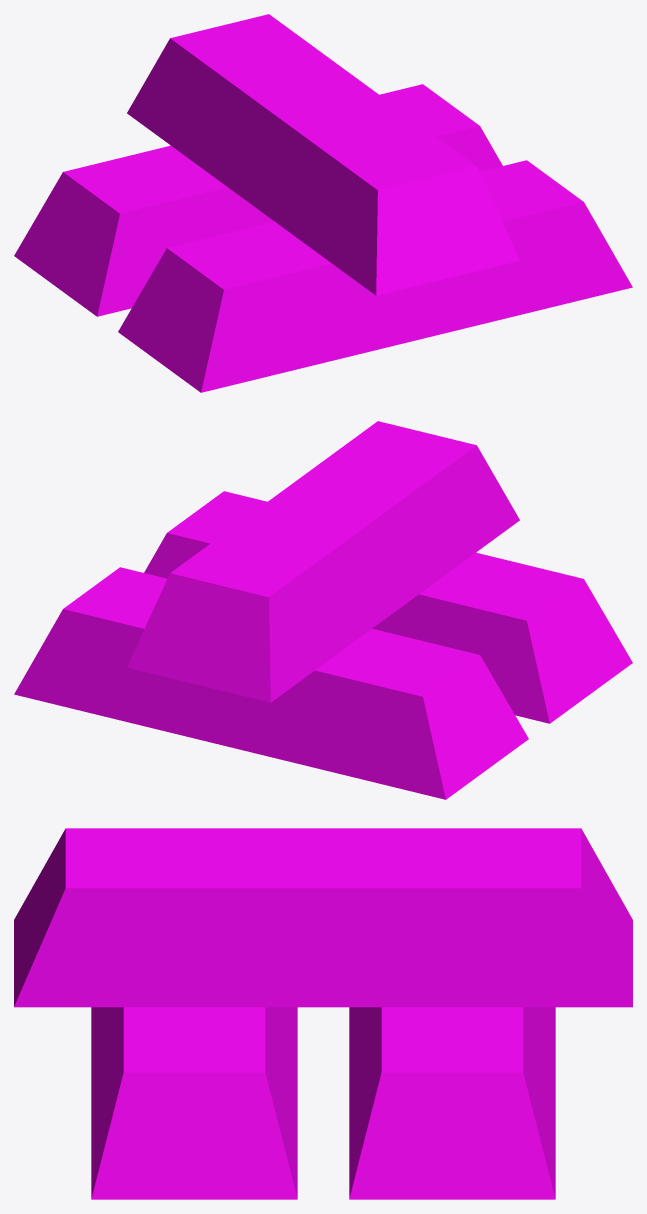
Rendered from objet_lingot.glb.
3 renders of one model, top to bottom at view 1: azimuth 30°, elevation 25°; view 2: azimuth 150°, elevation 25°; view 3: azimuth 270°, elevation 25°, orthographic. The views are drawn at different scales.
Visible parts, largest first — view 1: lingots_teinte.002; view 2: lingots_teinte.002; view 3: lingots_teinte.002.
Part boxes in pixels (x1=…): lingots_teinte.002: x1=14, y1=14, x2=632, y2=392; lingots_teinte.002: x1=14, y1=421, x2=632, y2=799; lingots_teinte.002: x1=14, y1=828, x2=632, y2=1199.
Bounding box in the file's own units: 0.24 × 0.09 × 0.24.
